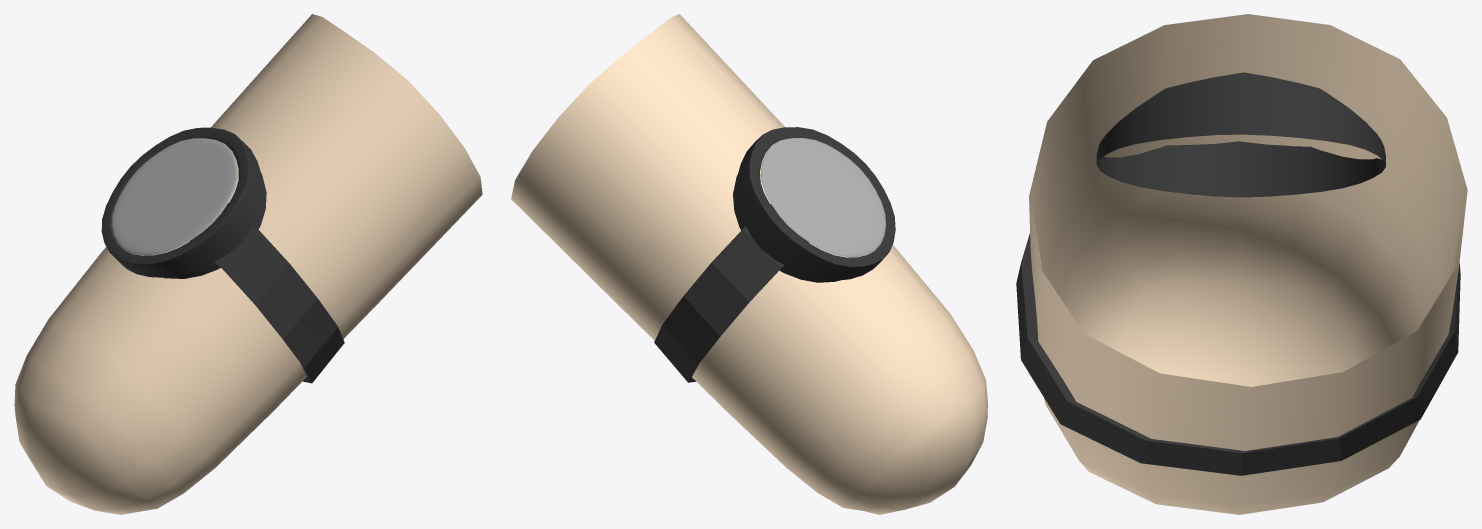
The model's file is CH01_Player_FirstPerson_Left_V02.fbx.
The picture shows the model from 3 angles, left to right: view 1: azimuth 30°, elevation 25°; view 2: azimuth 150°, elevation 25°; view 3: azimuth 270°, elevation 25°; orthographic projection. The views are drawn at different scales.
Visible parts, largest first — view 1: pasted__Arm_2, Watch_Screen, Watch_Frame, Watch_string; view 2: pasted__Arm_2, Watch_Screen, Watch_Frame, Watch_string; view 3: pasted__Arm_2, Watch_Frame, Watch_string.
Part boxes in pixels (x1,y1,x2,y2): pasted__Arm_2: (14,14,482,514); Watch_Screen: (111,138,237,254); Watch_Frame: (101,127,266,278); Watch_string: (190,203,344,383); pasted__Arm_2: (511,14,987,514); Watch_Screen: (761,138,885,256); Watch_Frame: (733,127,895,282); Watch_string: (654,204,809,382); pasted__Arm_2: (1029,14,1467,514); Watch_Frame: (1096,72,1385,197); Watch_string: (1016,233,1460,475).
Size of the model in its own units: 4.11 by 3.88 by 2.32.
